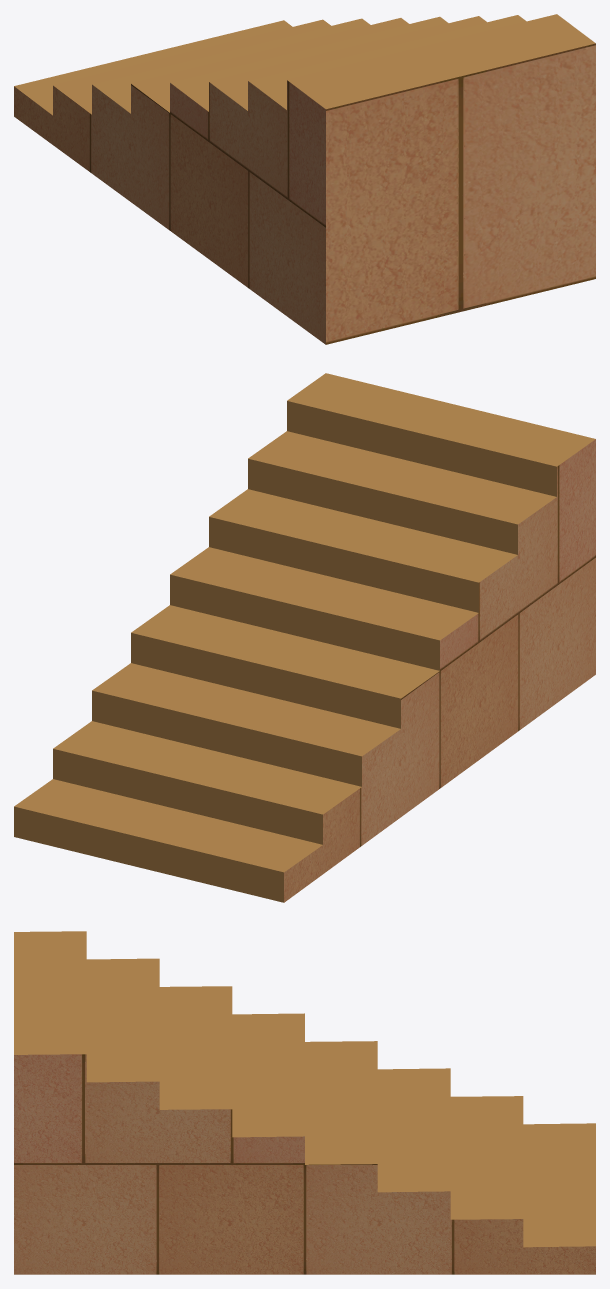
Rendered from Stair_2x1.fbx.
3 views of the same model, one above another, from view 1: azimuth 30°, elevation 25°; view 2: azimuth 150°, elevation 25°; view 3: azimuth 270°, elevation 25° (orthographic). The views are drawn at different scales.
Parts seen in each view (by area): view 1: Stair_2x1; view 2: Stair_2x1; view 3: Stair_2x1.
Part boxes in pixels (box(x1,y1,x2,y2)): Stair_2x1: box(14, 14, 595, 344); Stair_2x1: box(14, 373, 595, 902); Stair_2x1: box(14, 931, 595, 1274).
Bounding box in the file's own units: 1.2 × 1 × 2.4.
2 materials, 1 textured.
